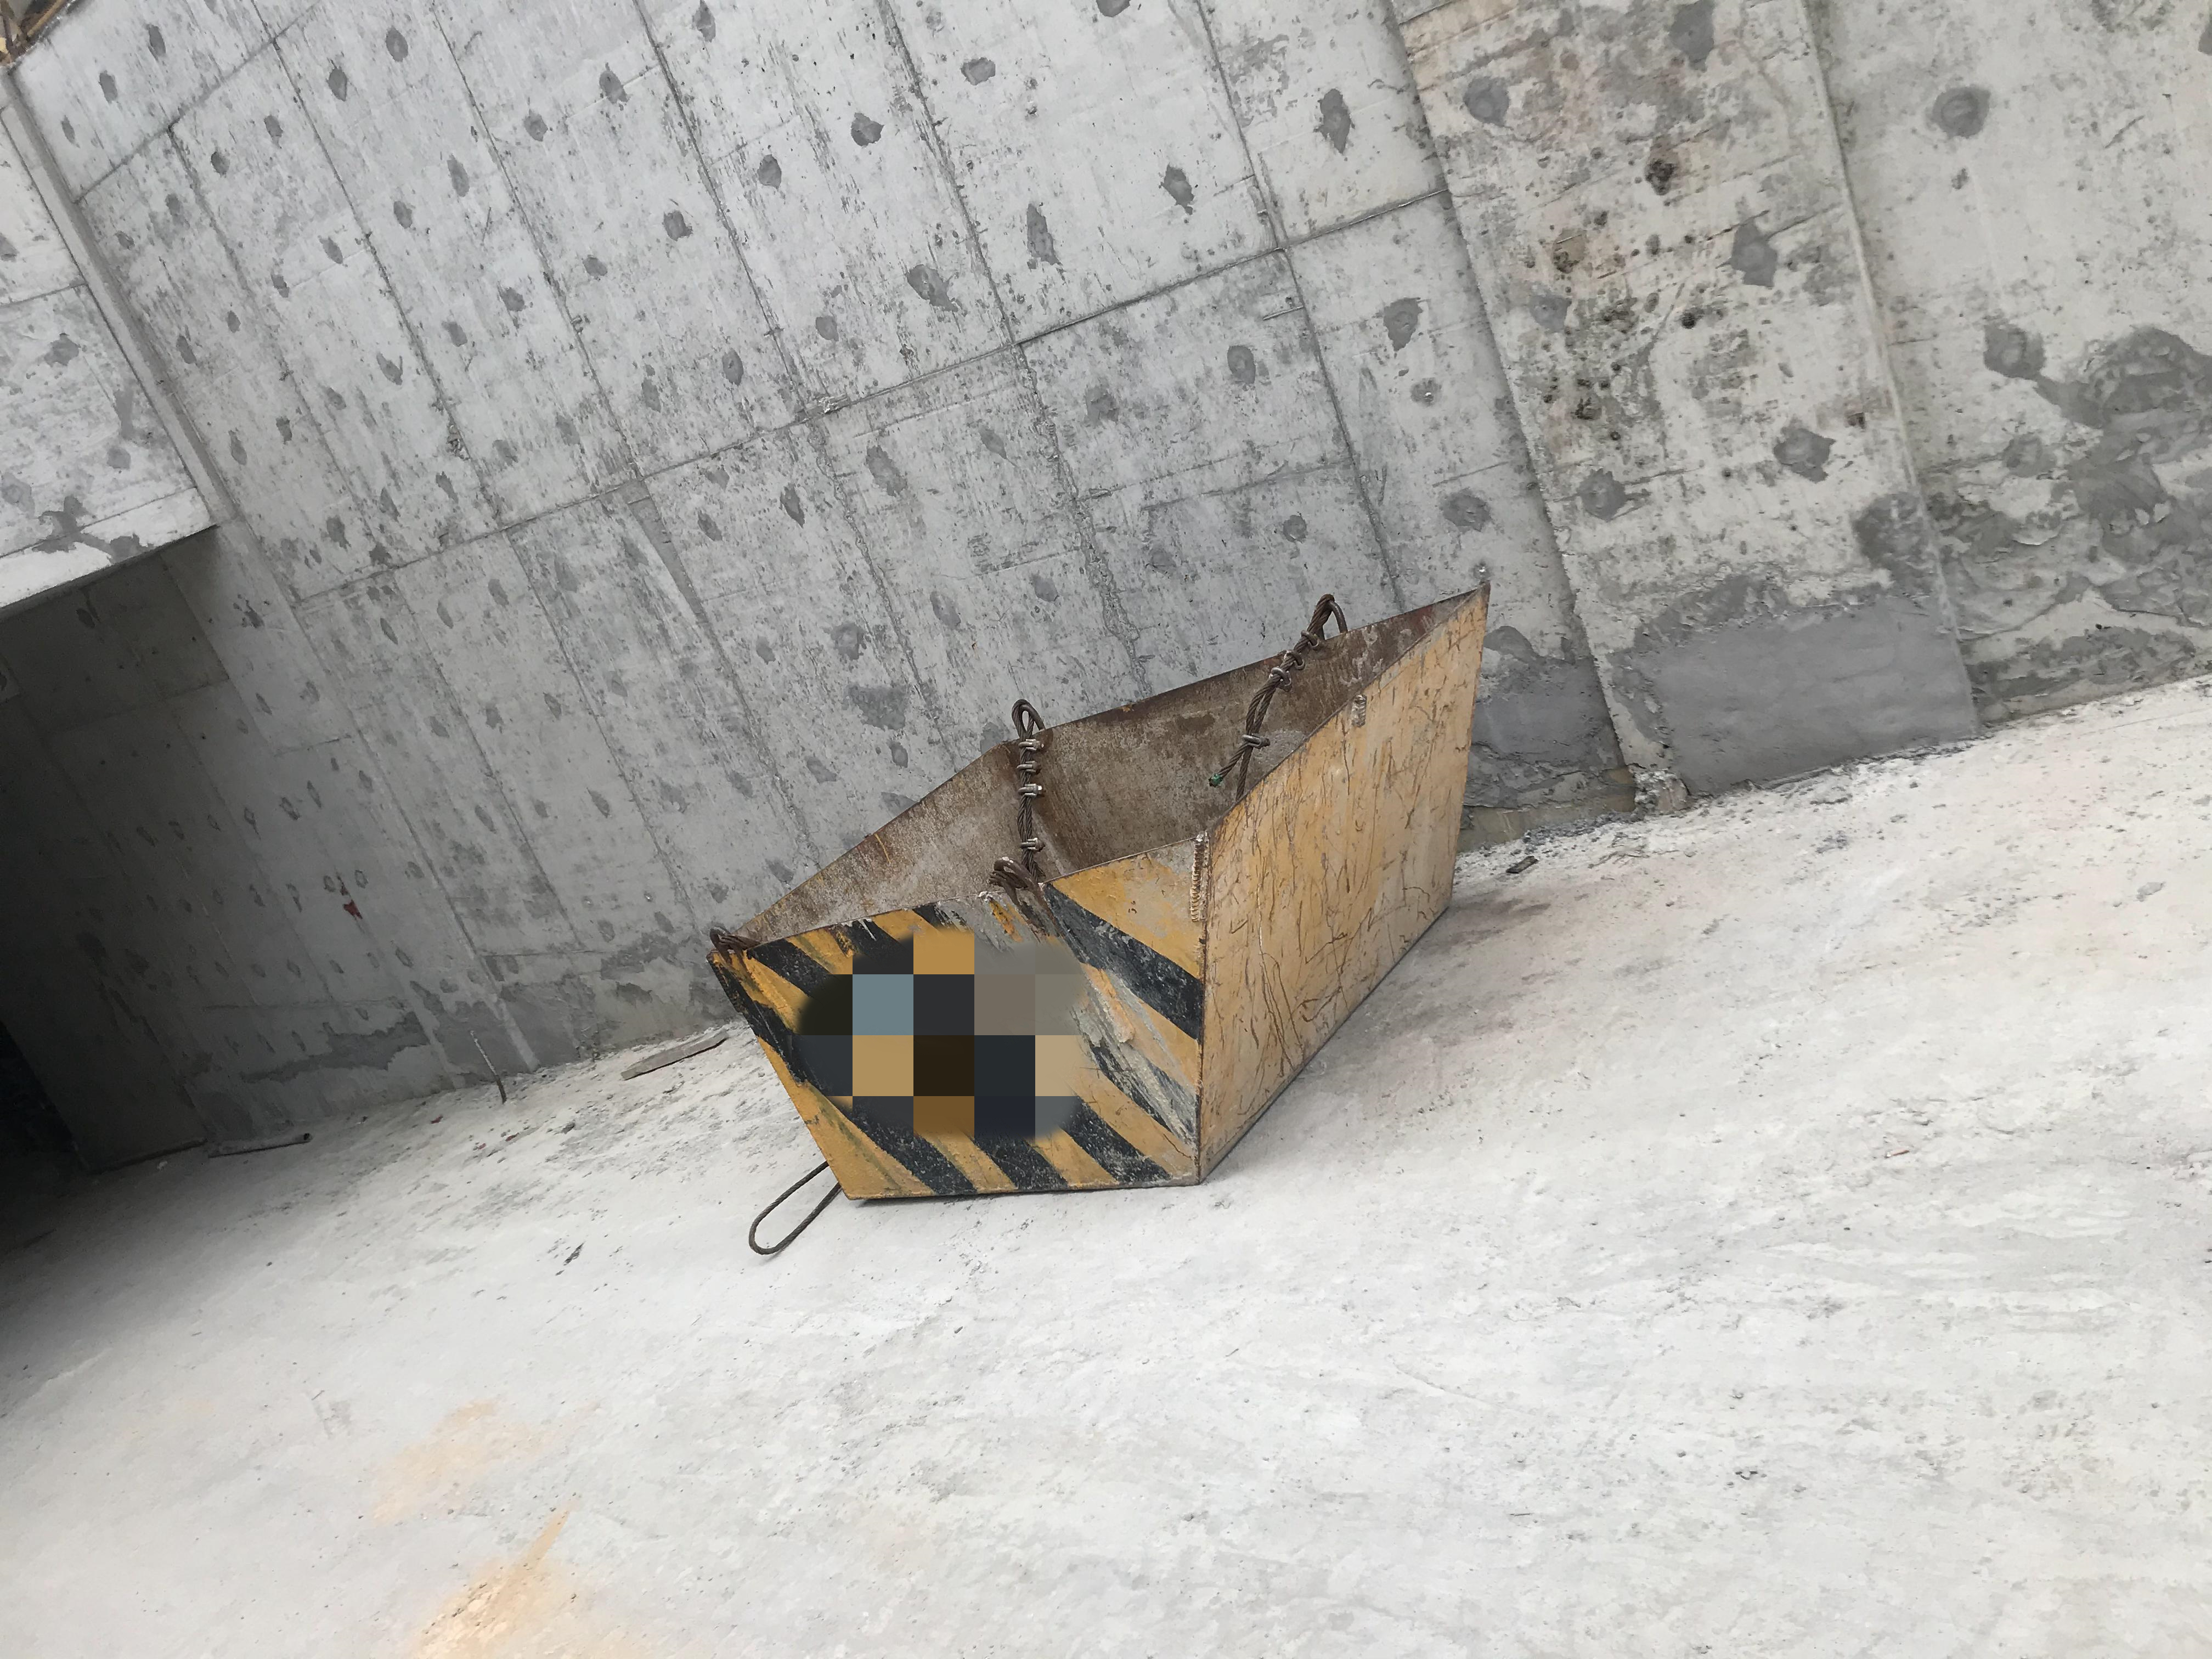hopper: (702, 570, 1517, 1225)
